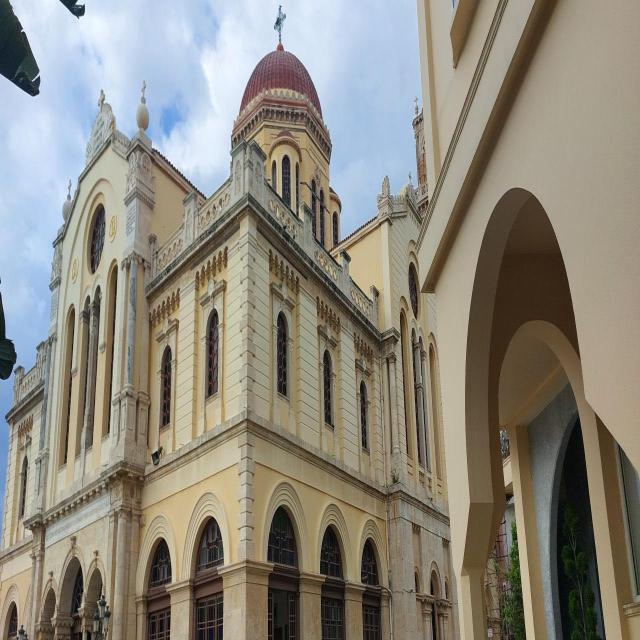Agios Minas: (1, 1, 459, 640)
